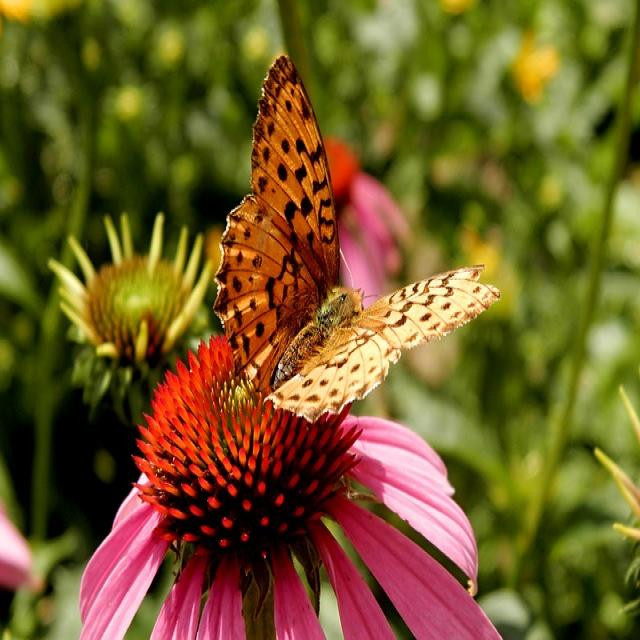butterfly: (213, 55, 499, 424)
